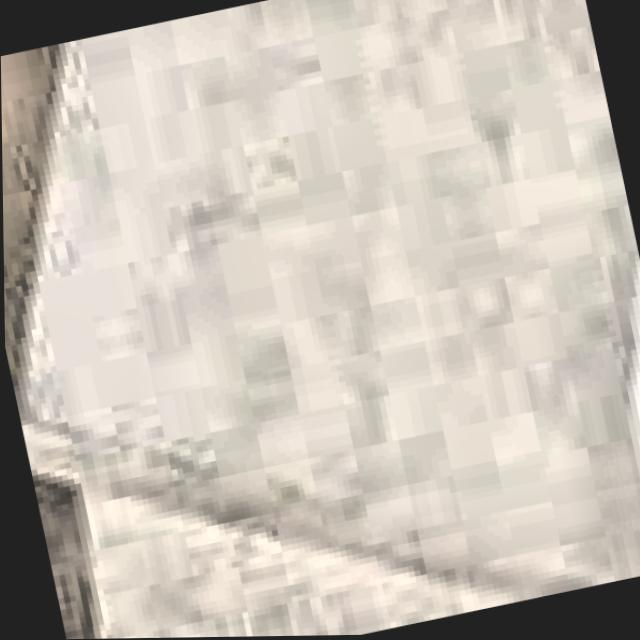paper: (1, 0, 640, 639)
